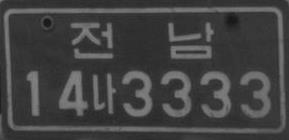1: (20, 69, 47, 117)
3: (238, 69, 273, 120), (120, 68, 153, 118), (199, 69, 232, 119), (160, 69, 192, 118)
4: (57, 68, 88, 117)
나: (90, 71, 117, 115)
전남_D: (69, 20, 214, 61)
